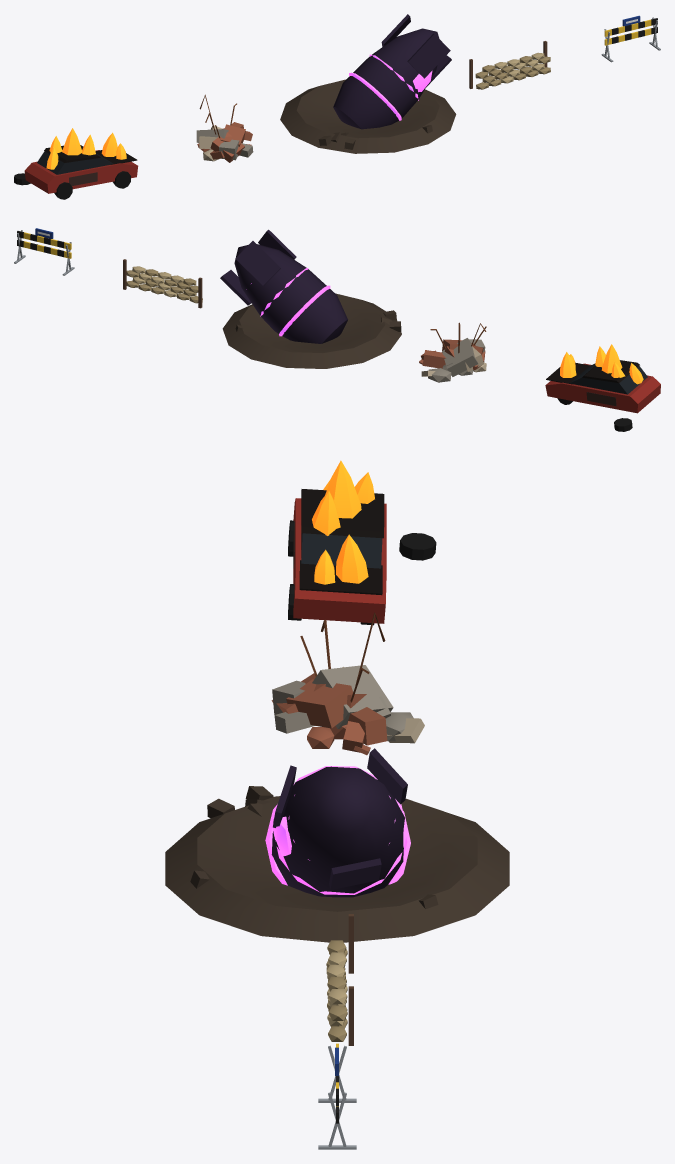
Rendered from debris.glb.
3 views of the same model, one above another, from view 1: azimuth 30°, elevation 25°; view 2: azimuth 150°, elevation 25°; view 3: azimuth 270°, elevation 25° (orthographic). The views are drawn at different scales.
Parts seen in each view (by area): view 1: Crashed_Pod, Burning_Car, Rubble_Pile, Sandbag_Wall, Barricade; view 2: Crashed_Pod, Burning_Car, Rubble_Pile, Sandbag_Wall, Barricade; view 3: Crashed_Pod, Burning_Car, Rubble_Pile, Sandbag_Wall, Barricade.
Boxes of the visible parts, x1,y1,x2,y2 form: Crashed_Pod: (280, 14, 456, 153); Burning_Car: (14, 128, 138, 199); Rubble_Pile: (196, 94, 253, 162); Sandbag_Wall: (469, 41, 550, 89); Barricade: (601, 15, 660, 62); Crashed_Pod: (220, 229, 401, 368); Burning_Car: (545, 344, 660, 431); Rubble_Pile: (419, 322, 486, 382); Sandbag_Wall: (123, 259, 202, 308); Barricade: (14, 228, 74, 275); Crashed_Pod: (165, 748, 509, 942); Burning_Car: (288, 460, 436, 625); Rubble_Pile: (271, 612, 424, 755); Sandbag_Wall: (326, 914, 353, 1045); Barricade: (318, 1043, 356, 1149).
Size of the model in its own units: 26.02 by 4.16 by 6.24.
